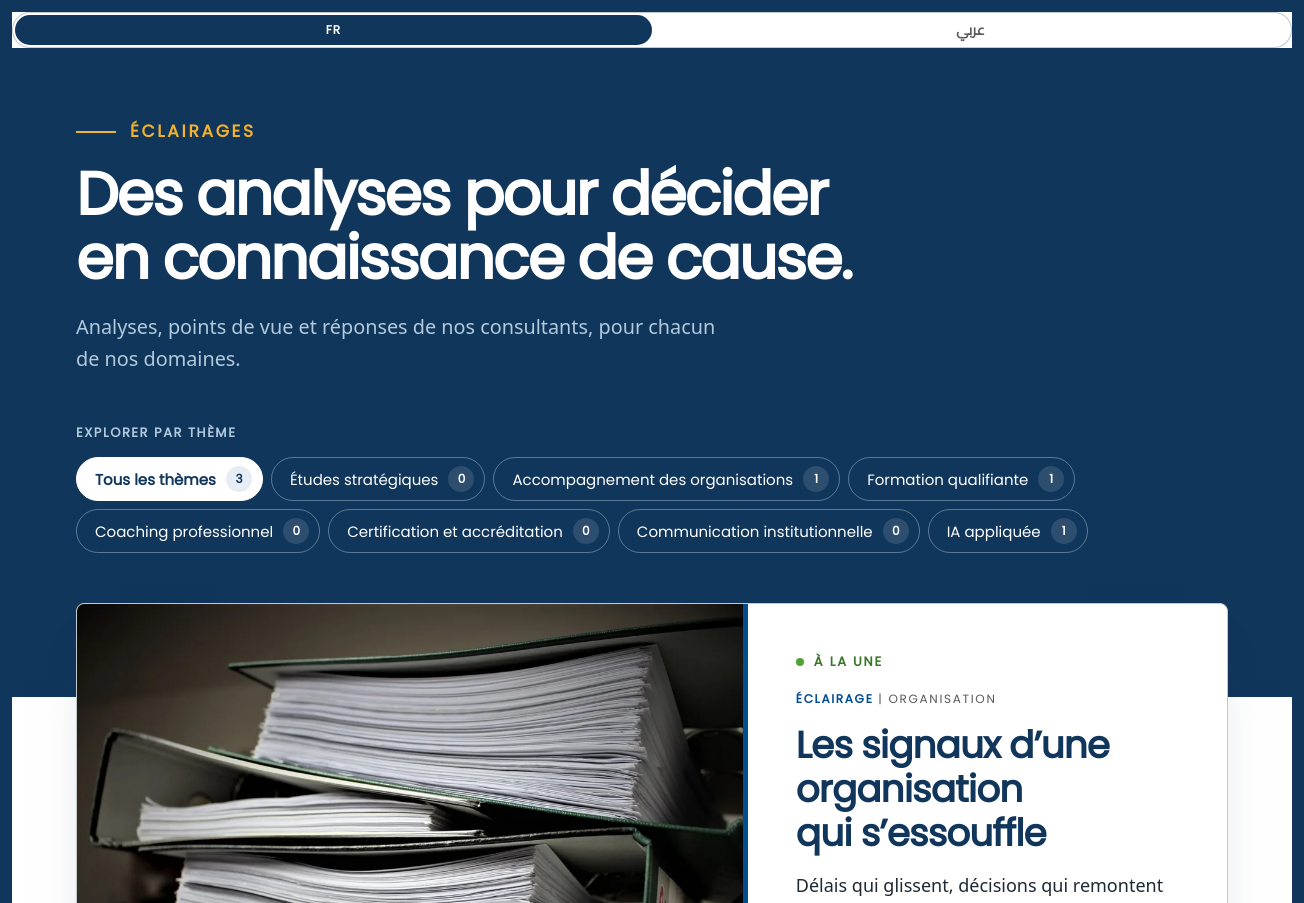
Scenario: Page « Éclairages » › passe en arabe
Step 1. Click the button "عربي" → {"x": 970, "y": 30}, box [652,15,1289,45]
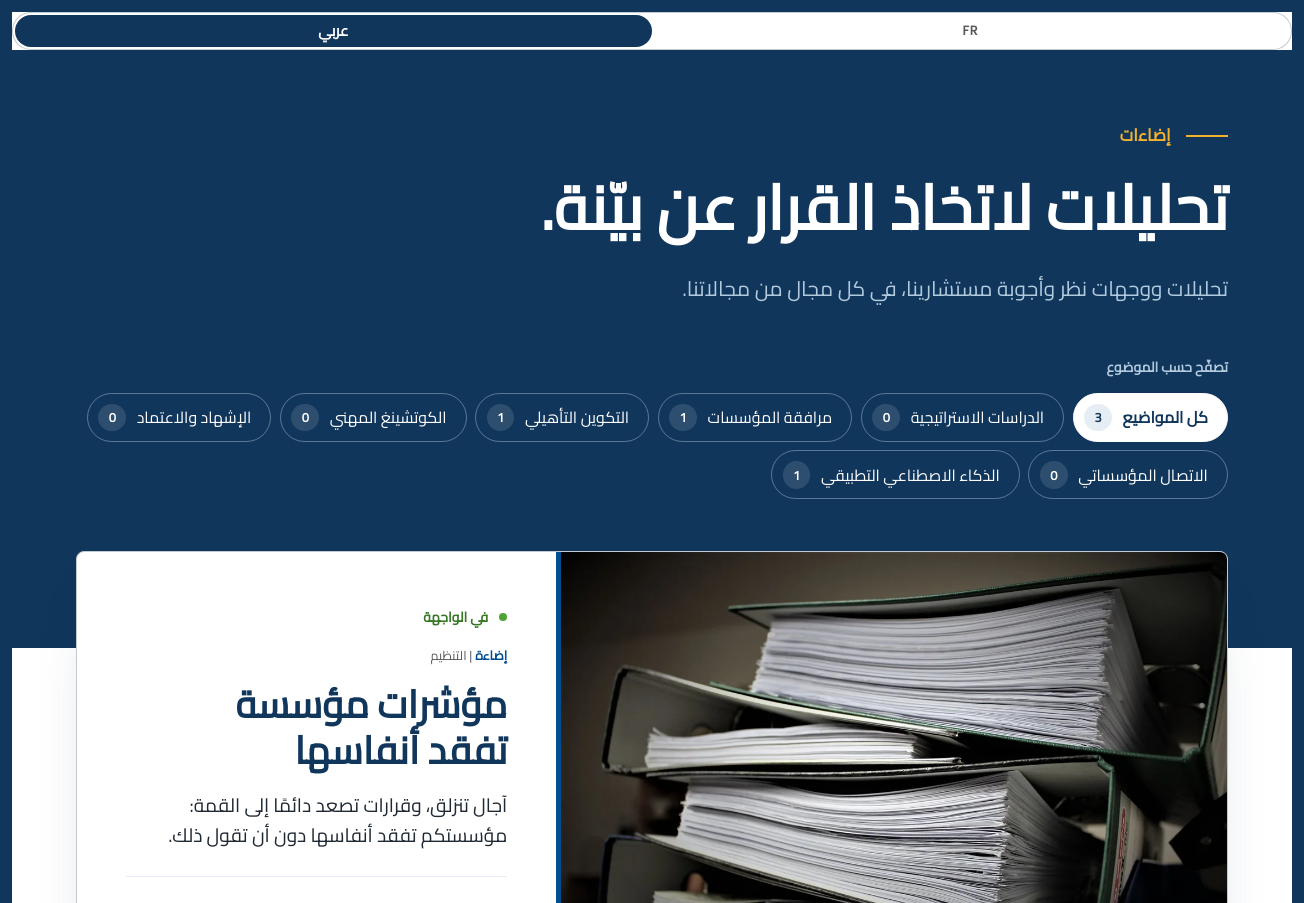
Expected: the navigation bar "تصفّح حسب الموضوع" is shown, [76,356,1228,500]
